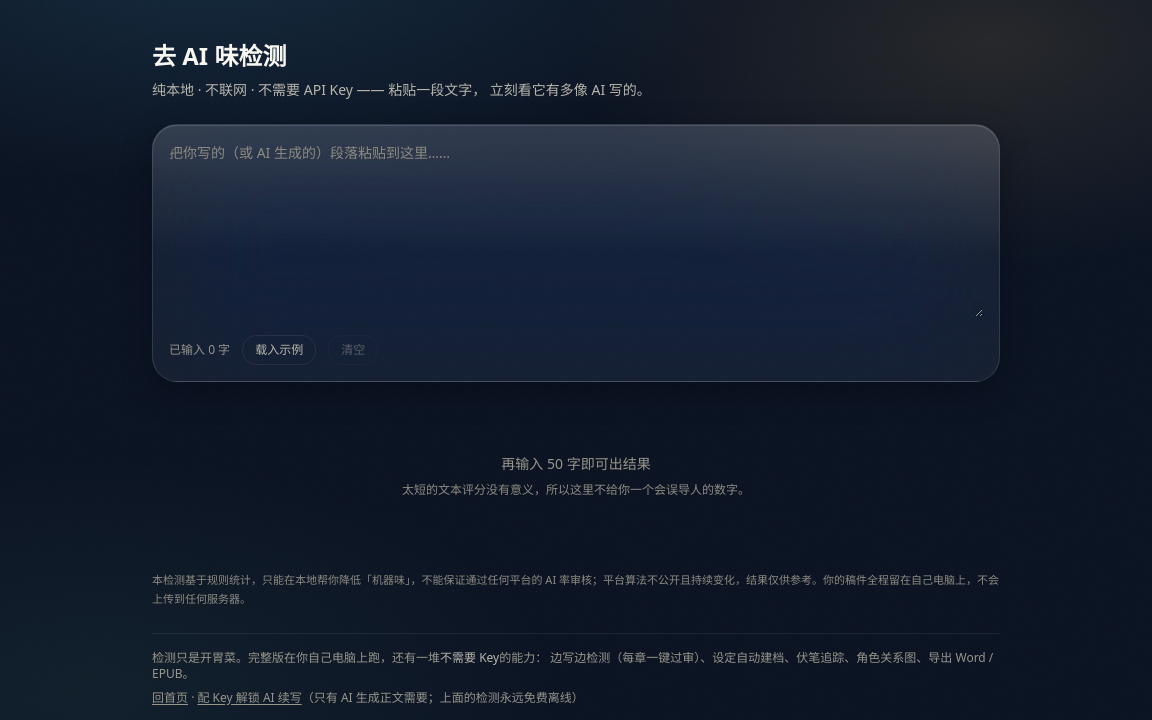
DetectorPanel —— 套用前后对比（v3.1.138） › 一键套用后出现对比条，且显示降分
Click the button "载入示例". click: (279,350)
box: top-left (242, 335), bottom-right (316, 365)
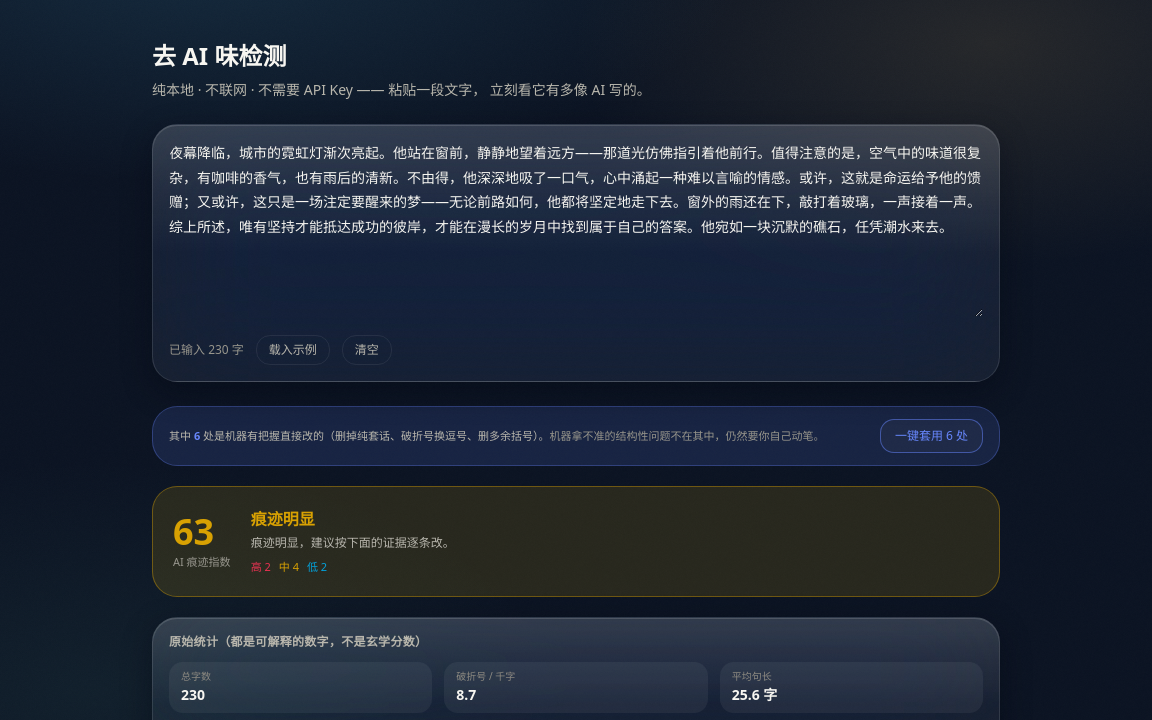
Click the button "一键套用 6 处". click: (931,436)
box: top-left (880, 419), bottom-right (983, 453)
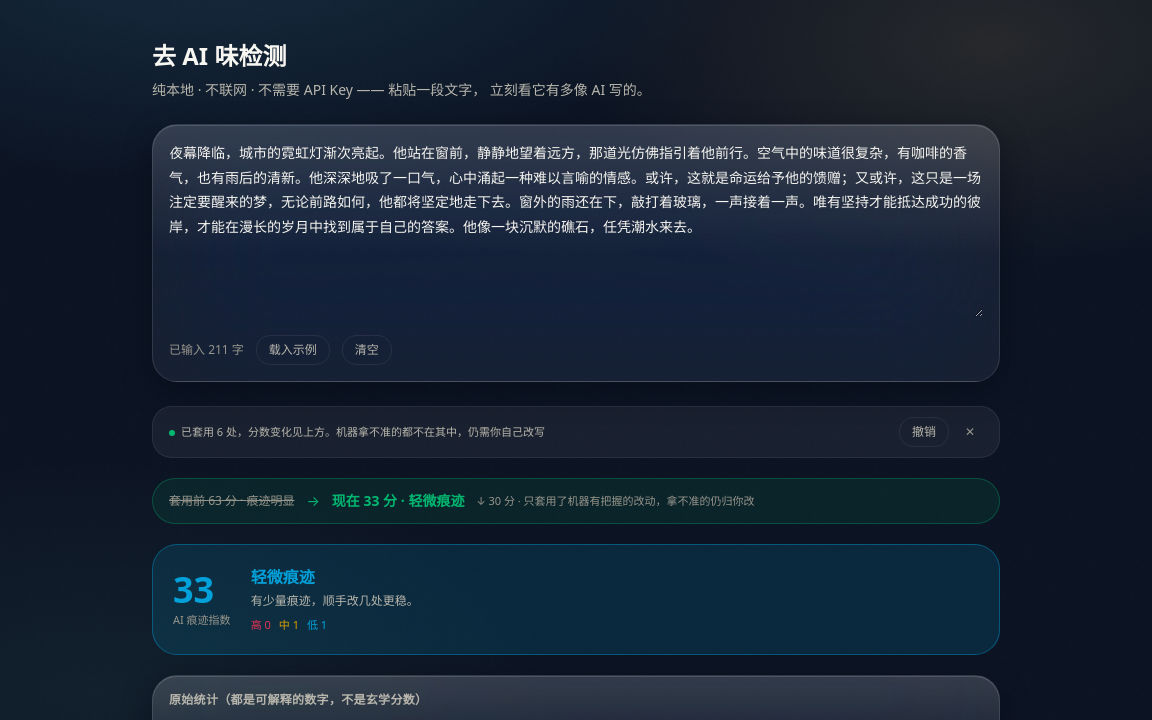
Expected: the text "套用前 63 分 · 痕迹明显" is shown, top-left (169, 493), bottom-right (294, 509)
Expected: the text "现在 33 分 · 轻微痕迹" is shown, top-left (332, 491), bottom-right (464, 511)
Expected: the text "↓ 30 分 · 只套用了机器有把握的改动，拿不准的仍归你改" is shown, top-left (476, 493), bottom-right (755, 509)
